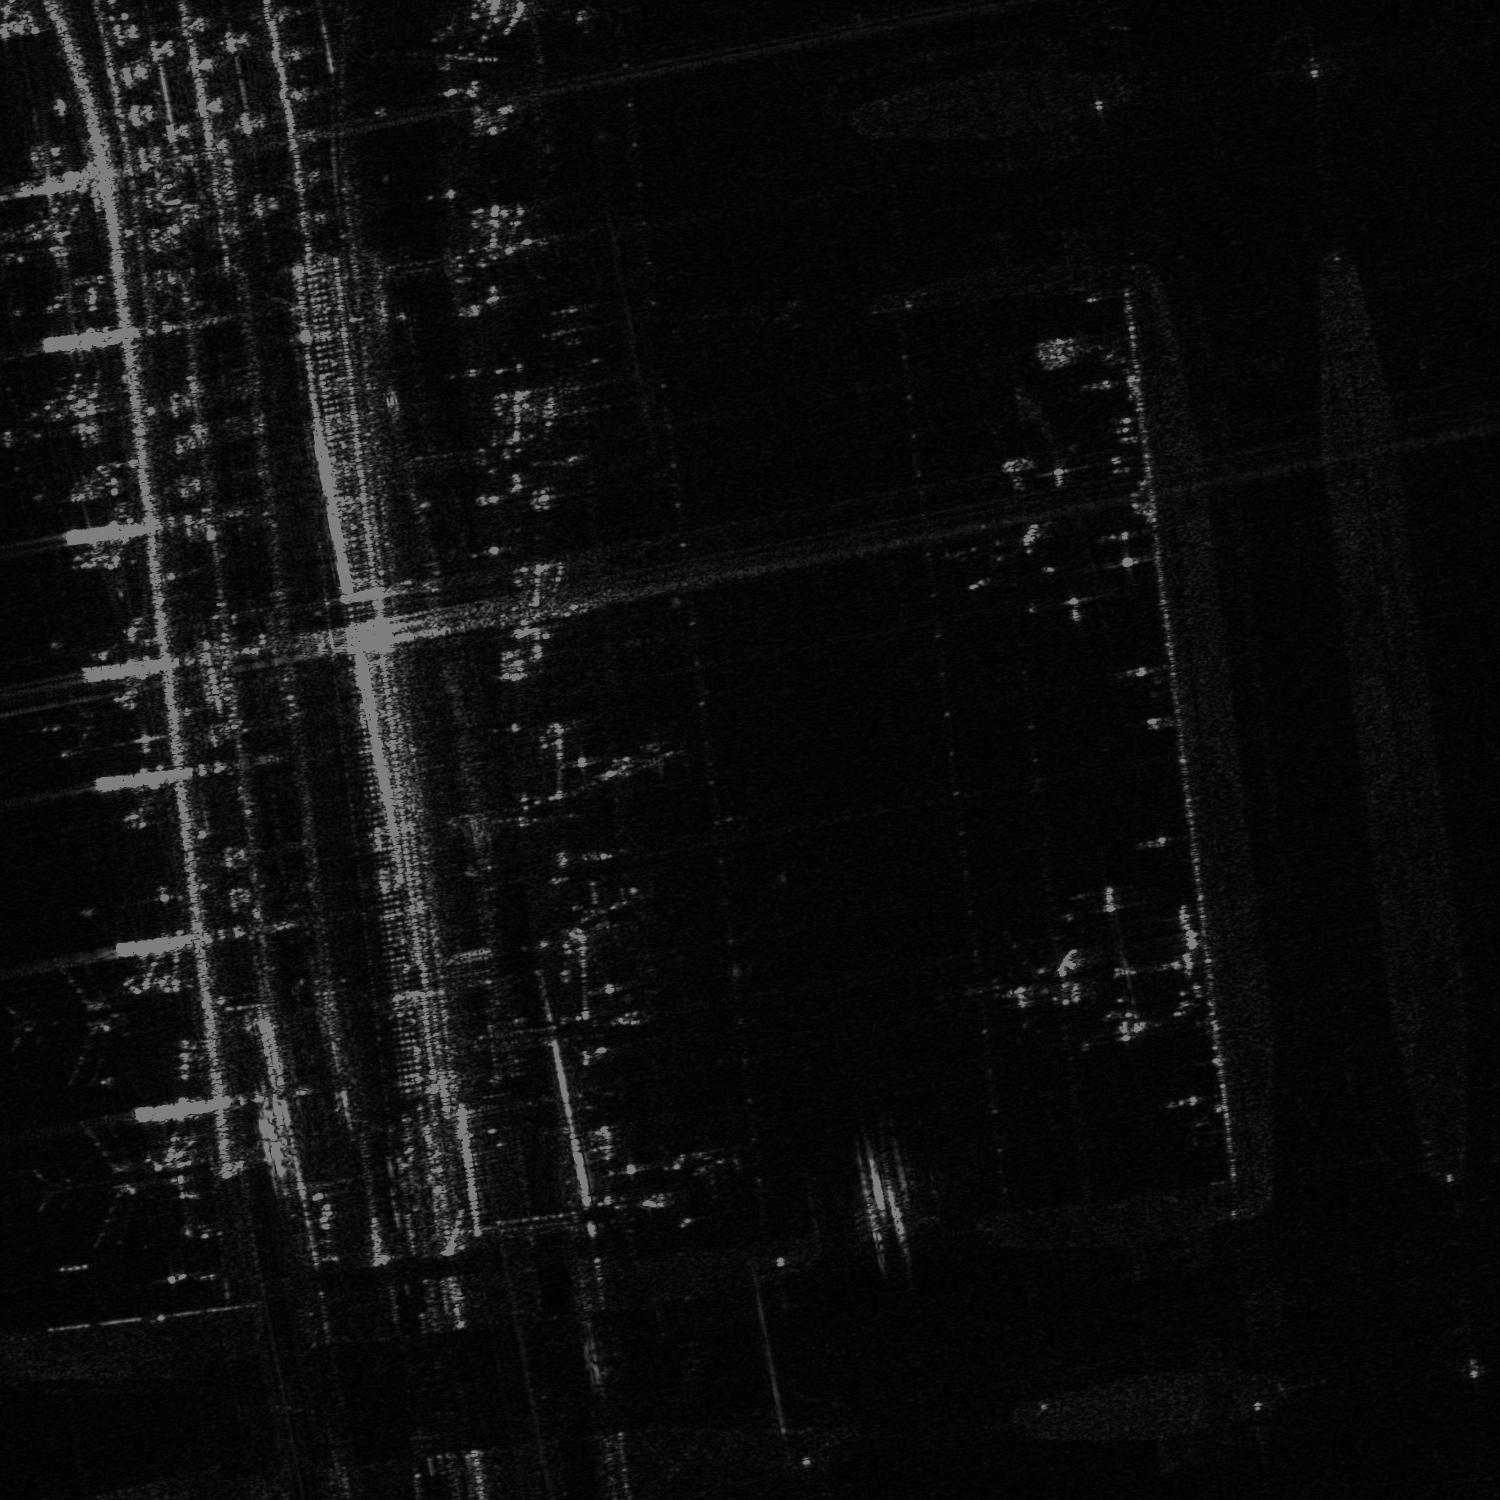A220: (32, 685, 120, 762), (500, 199, 569, 283)
A330: (38, 1121, 157, 1251)
Boeing787: (7, 964, 128, 1091)
